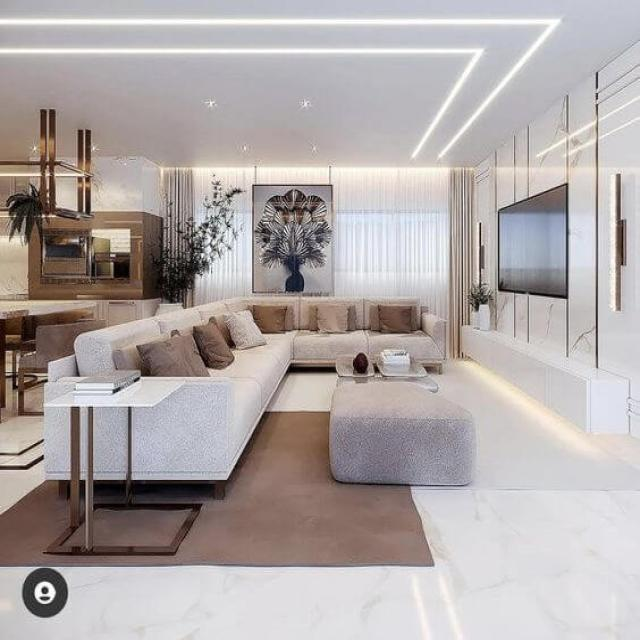white chair: (329, 346, 479, 495)
white sofa: (42, 309, 311, 494)
